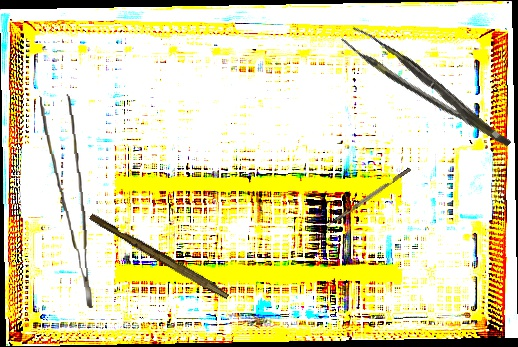Chopper: (322, 167, 415, 233)
Scalpel Handle: (87, 212, 232, 300)
Tissue Forceps: (340, 15, 512, 167), (39, 93, 93, 310)
